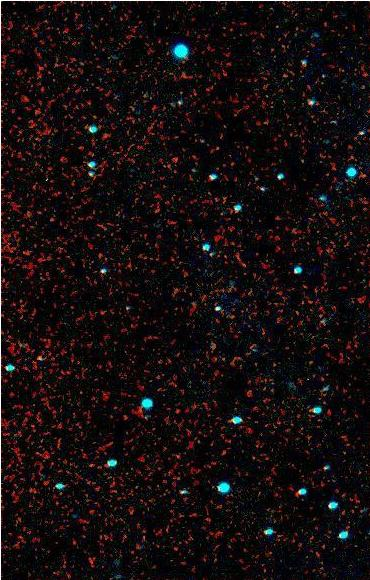star: (286, 147, 316, 177)
